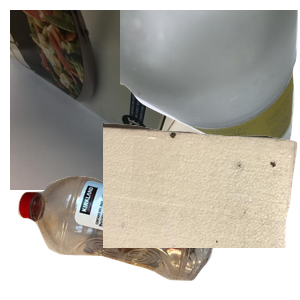cardboard: (10, 10, 250, 190)
glass: (120, 10, 300, 160)
plastic: (15, 173, 222, 300)
trash: (103, 120, 300, 300)
